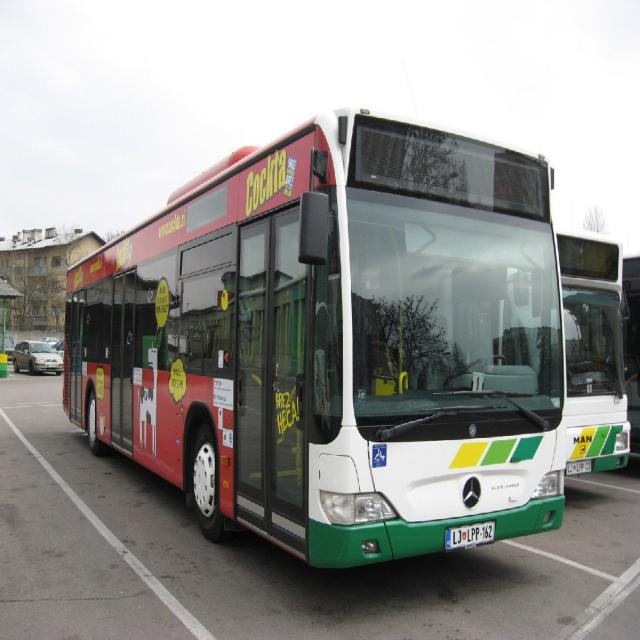bus: (59, 100, 574, 583)
